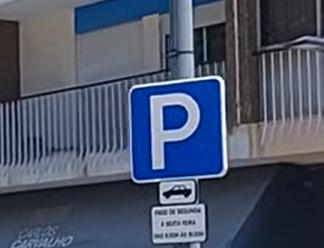Estacionamento autorizado: (125, 73, 236, 181)
